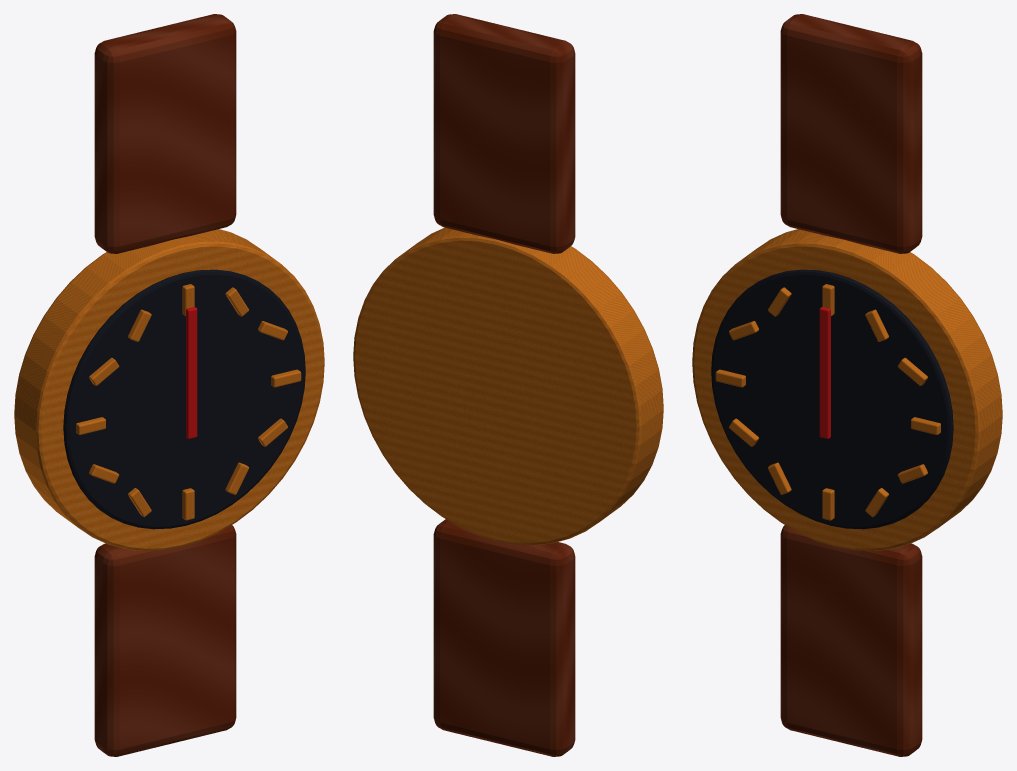
File: montre-aviateur-unique.glb
The picture shows the model from 3 angles, left to right: view 1: azimuth 30°, elevation 25°; view 2: azimuth 150°, elevation 25°; view 3: azimuth 330°, elevation 25°; orthographic projection.
Visible parts, largest first — view 1: Cadran, Bracelet haut, Bracelet bas, Boitier, Aiguille; view 2: Boitier, Bracelet haut, Bracelet bas; view 3: Cadran, Bracelet haut, Bracelet bas, Boitier, Aiguille.
Part boxes in pixels (x1=…): Cadran: x1=63, y1=269, x2=305, y2=529; Bracelet haut: x1=94, y1=14, x2=236, y2=253; Bracelet bas: x1=94, y1=525, x2=236, y2=756; Boitier: x1=14, y1=229, x2=324, y2=550; Aiguille: x1=186, y1=307, x2=197, y2=438; Boitier: x1=353, y1=227, x2=663, y2=545; Bracelet haut: x1=433, y1=14, x2=575, y2=253; Bracelet bas: x1=433, y1=519, x2=575, y2=756; Cadran: x1=711, y1=269, x2=953, y2=529; Bracelet haut: x1=780, y1=14, x2=922, y2=253; Bracelet bas: x1=780, y1=525, x2=922, y2=756; Boitier: x1=692, y1=229, x2=1002, y2=550; Aiguille: x1=819, y1=307, x2=830, y2=438.
Bounding box in the file's own units: 2.1 × 4.94 × 0.468.
Materials: 4 (4 with a texture image).
